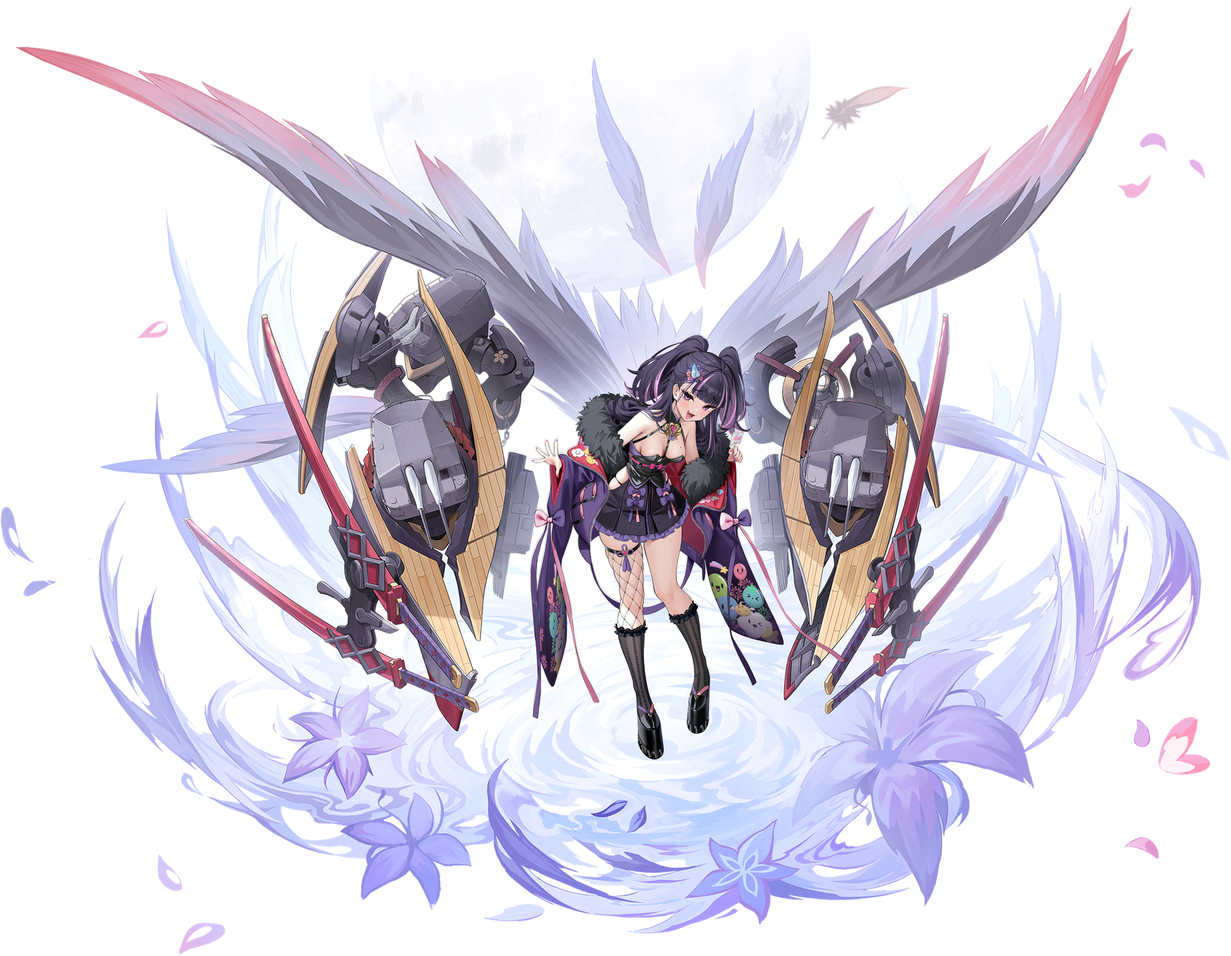person: (535, 299, 793, 774)
